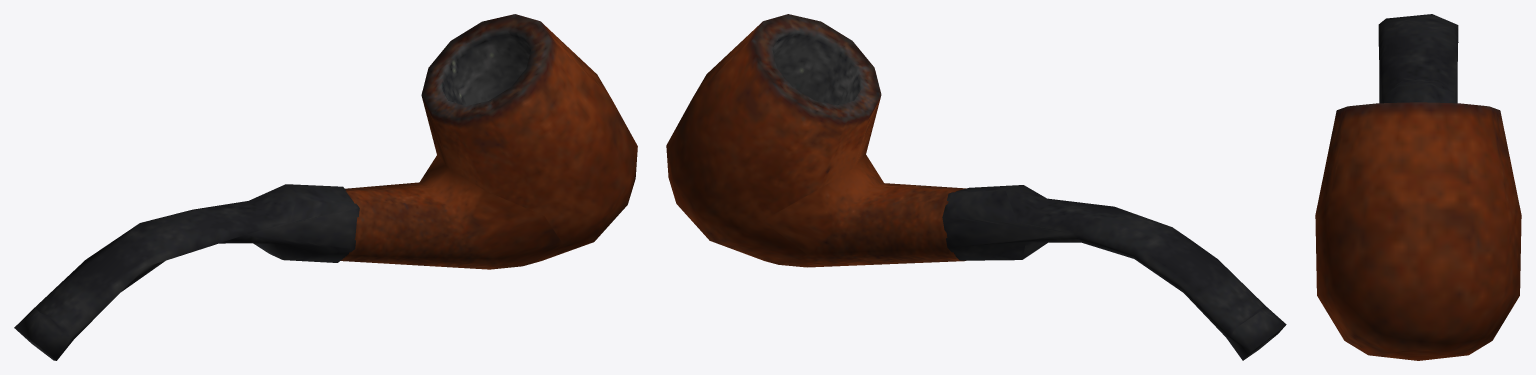
File: SmokePipe1Empty.fbx
The picture shows the model from 3 angles, left to right: view 1: azimuth 30°, elevation 25°; view 2: azimuth 150°, elevation 25°; view 3: azimuth 270°, elevation 25°; orthographic projection. The views are drawn at different scales.
Visible parts, largest first — view 1: SmokePipe; view 2: SmokePipe; view 3: SmokePipe.
Part boxes in pixels (bbox=[...]): SmokePipe: bbox=[14, 14, 637, 360]; SmokePipe: bbox=[666, 14, 1286, 360]; SmokePipe: bbox=[1315, 14, 1521, 360].
Bounding box in the file's own units: 0.1084 × 0.0395 × 0.0287.
